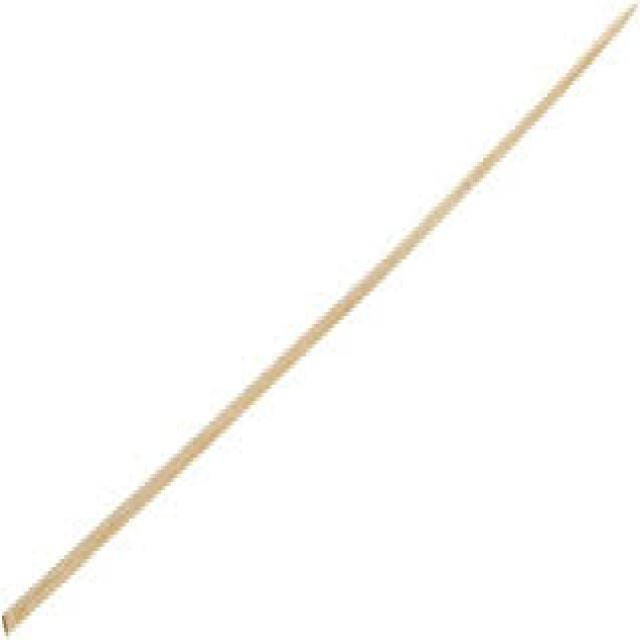stick: (3, 6, 636, 633)
